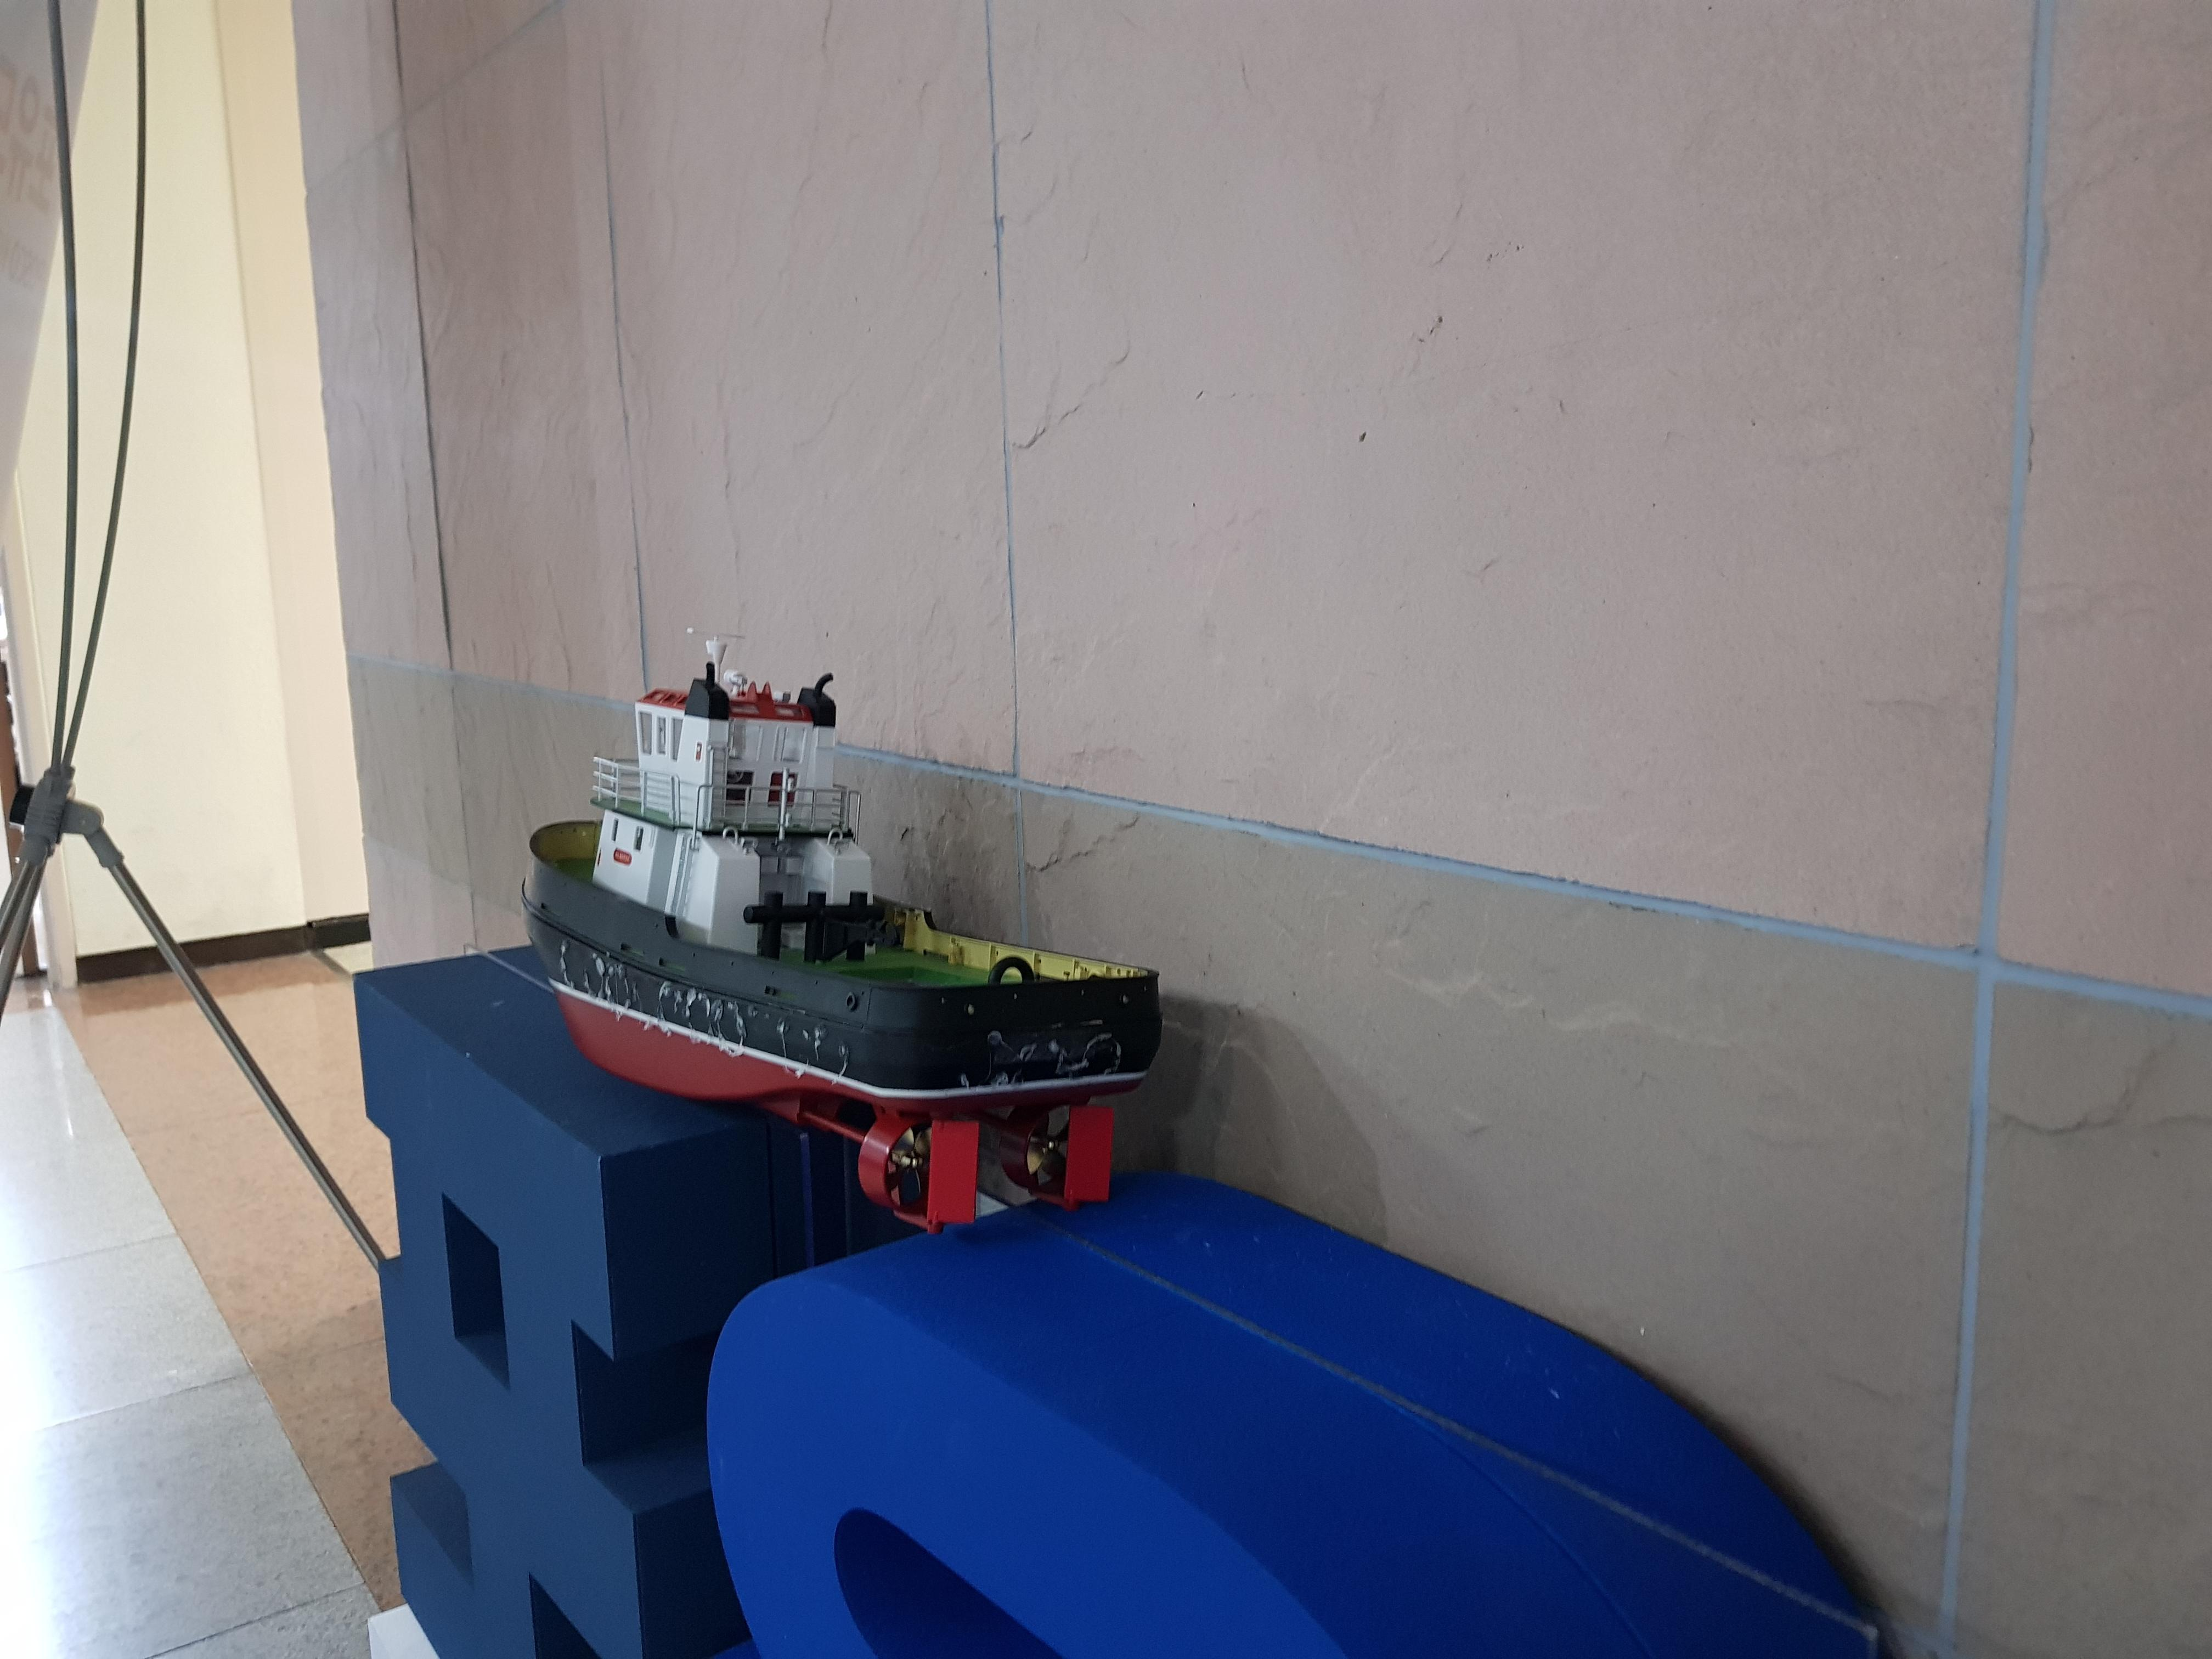Boat: (526, 641, 1151, 1220)
